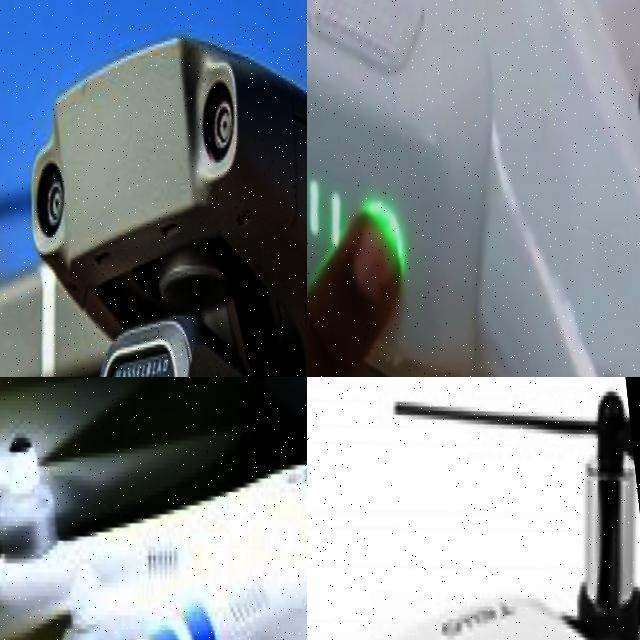drone: (307, 0, 640, 377), (0, 0, 307, 377), (307, 377, 640, 640), (0, 377, 307, 640)
